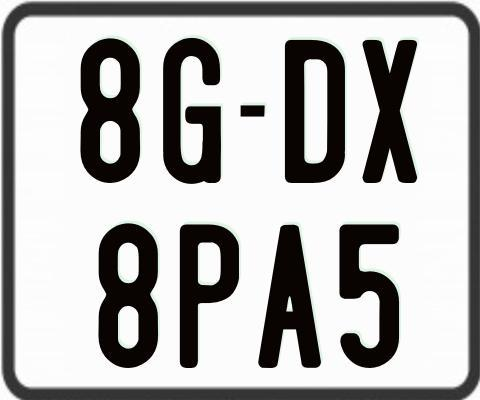5: (337, 222, 400, 369)
8: (98, 221, 158, 367), (80, 37, 140, 182)
A: (256, 225, 320, 369)
D: (282, 40, 343, 188)
G: (161, 38, 222, 184)
P: (179, 222, 238, 367)
X: (361, 40, 417, 189)
